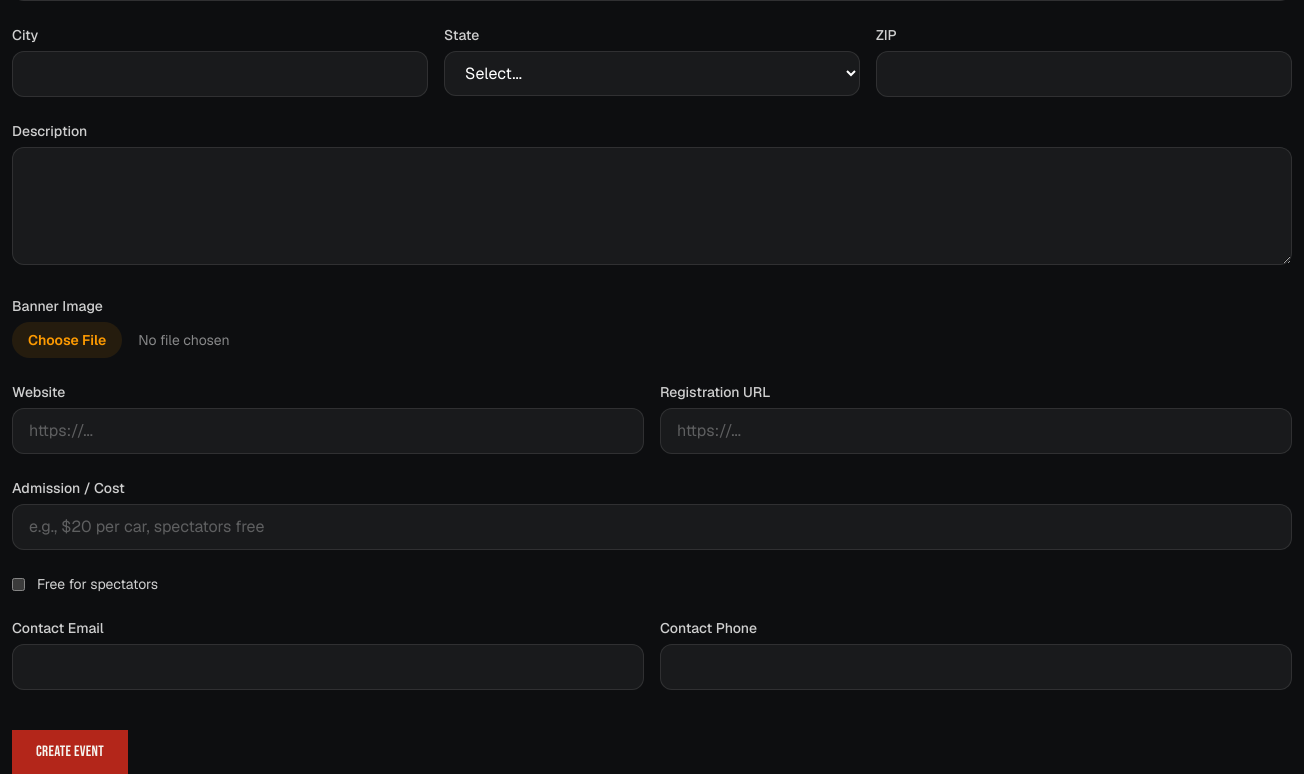
EventCreateForm › shows validation error when required fields are empty on submit
(page scrolled)
Step 1. Click the button "Create Event" → (70, 752), box [12,730,128,773]
(page scrolled)
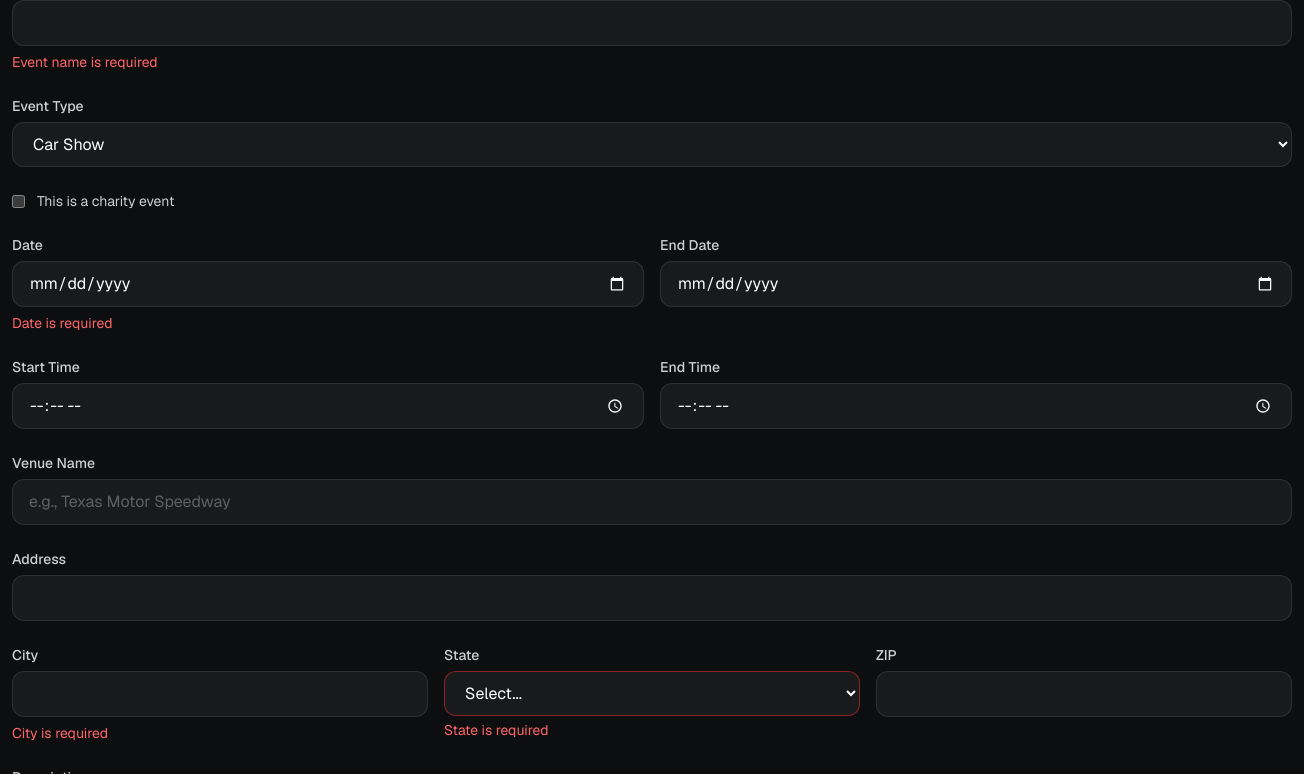
expect the text "Event name is required" is shown: met, box [12,53,158,71]
